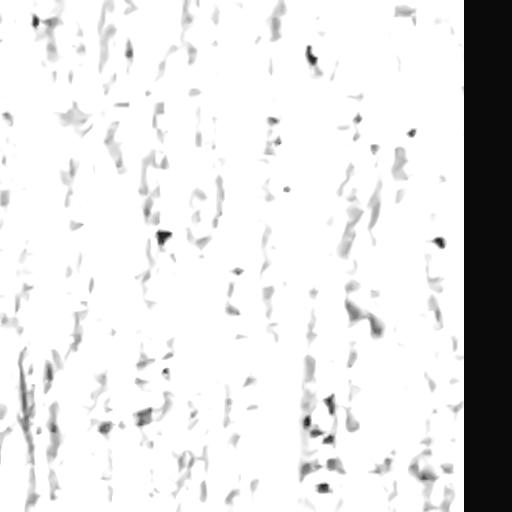egg: (305, 45, 317, 66), (157, 229, 172, 245), (323, 394, 334, 414), (432, 236, 446, 248), (32, 14, 39, 27)
